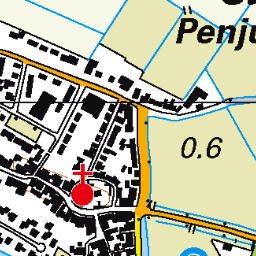church: (68, 161, 97, 209)
